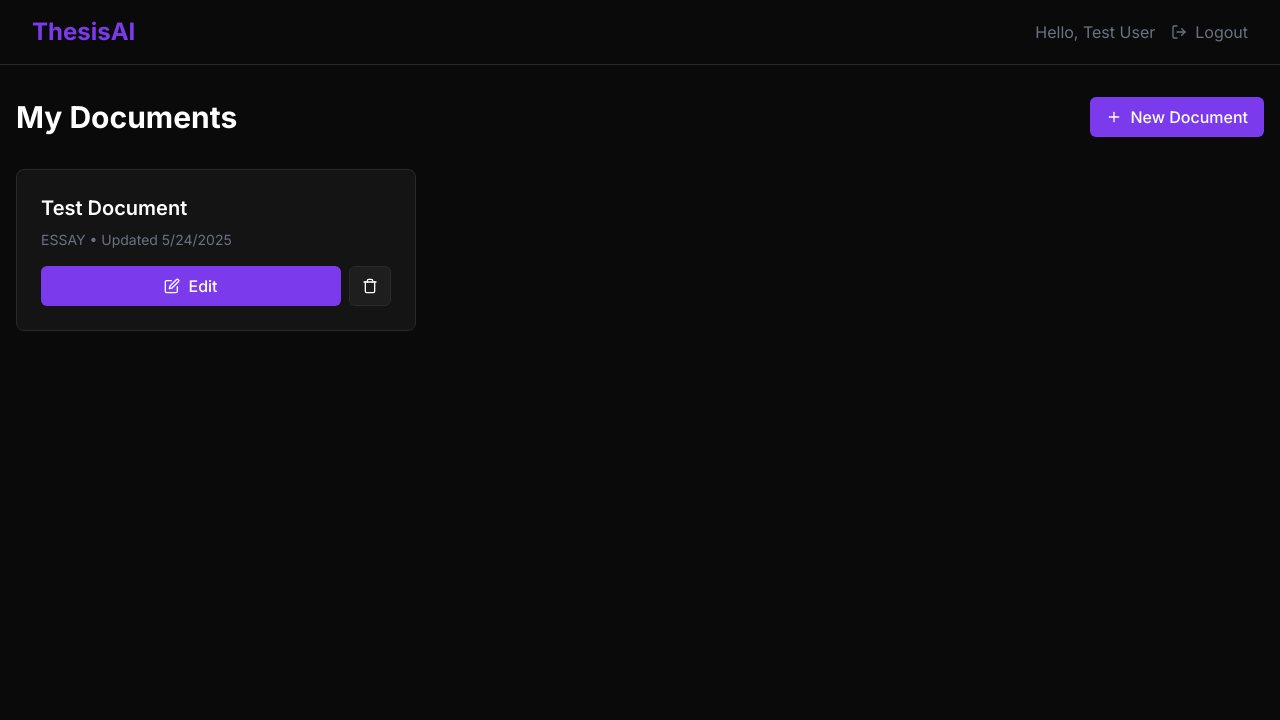
Test case: Document Management › should navigate to document editor
Click the link "Edit" at (191, 286), box [41,266,341,306]
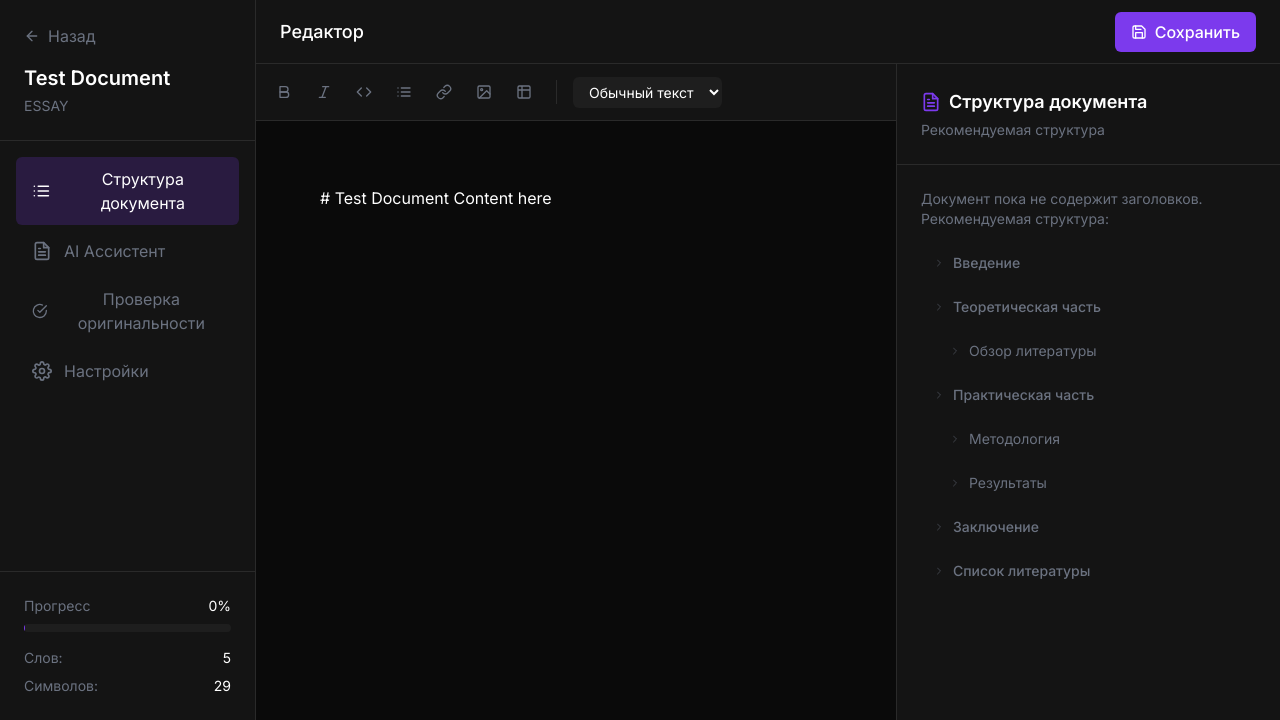
Expected: the heading "Test Document" is shown, [24,66,170,90]
